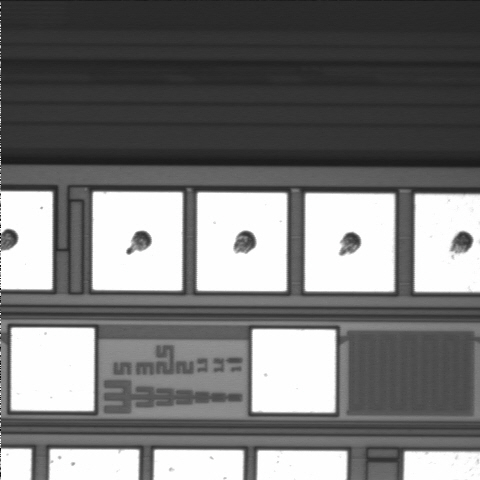pad: (93, 192, 183, 291), (197, 192, 287, 291), (305, 193, 395, 292), (252, 329, 336, 413), (11, 328, 94, 411)
